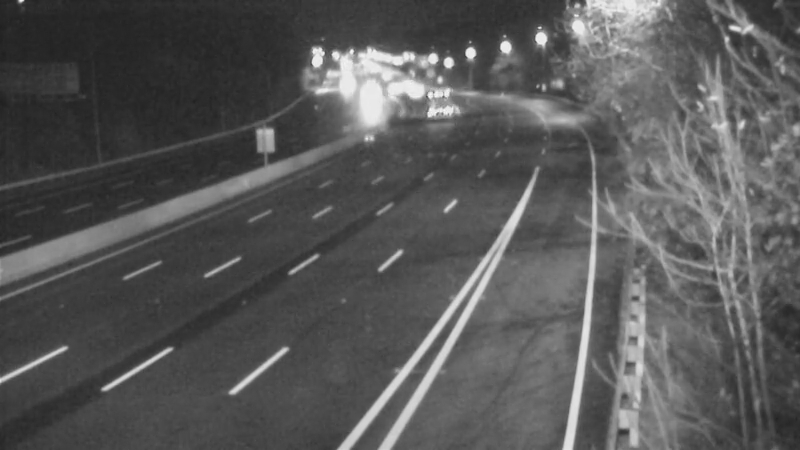vehicle: (406, 72, 456, 122), (345, 75, 395, 125)
